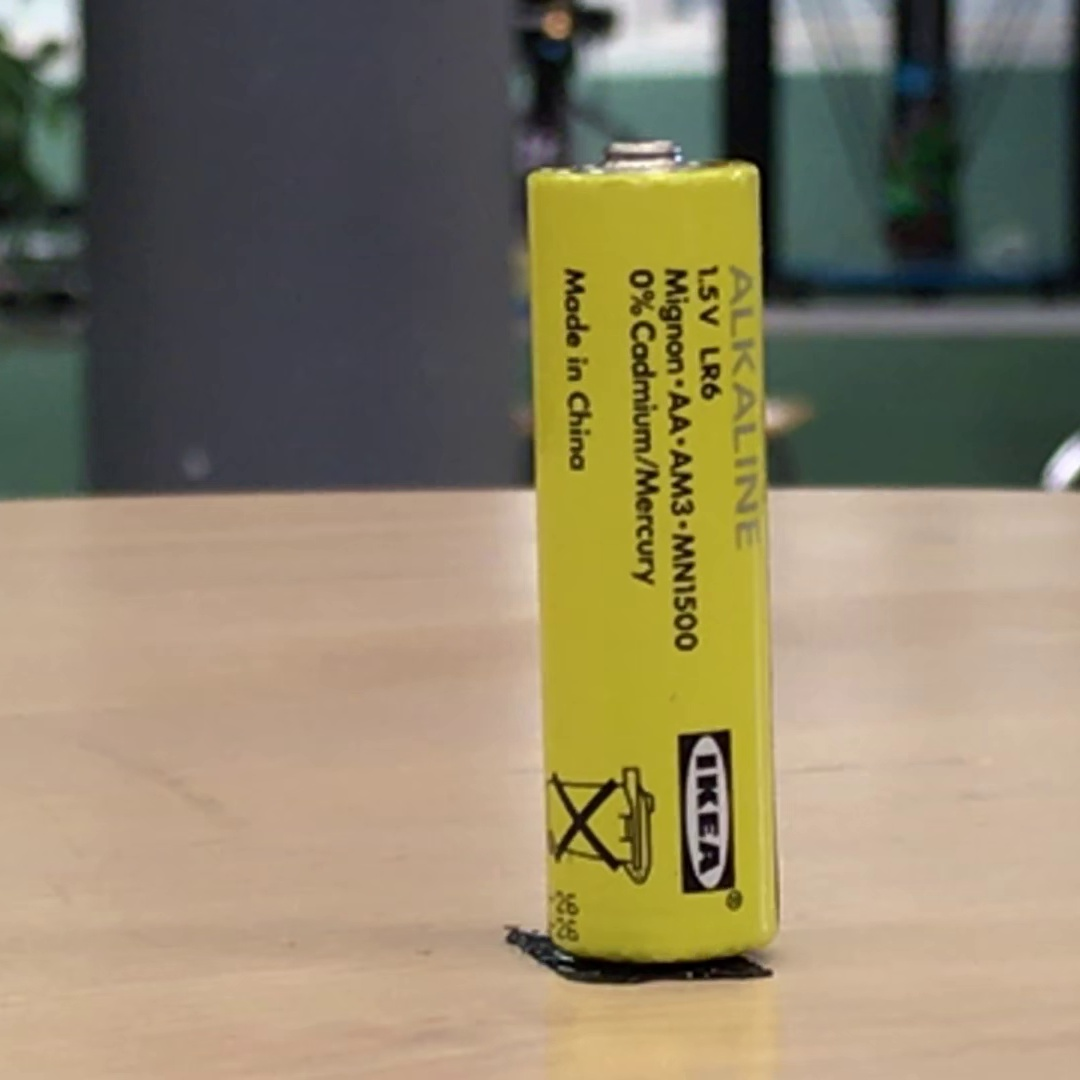keyword: (722, 258, 761, 376), (689, 337, 732, 410)
